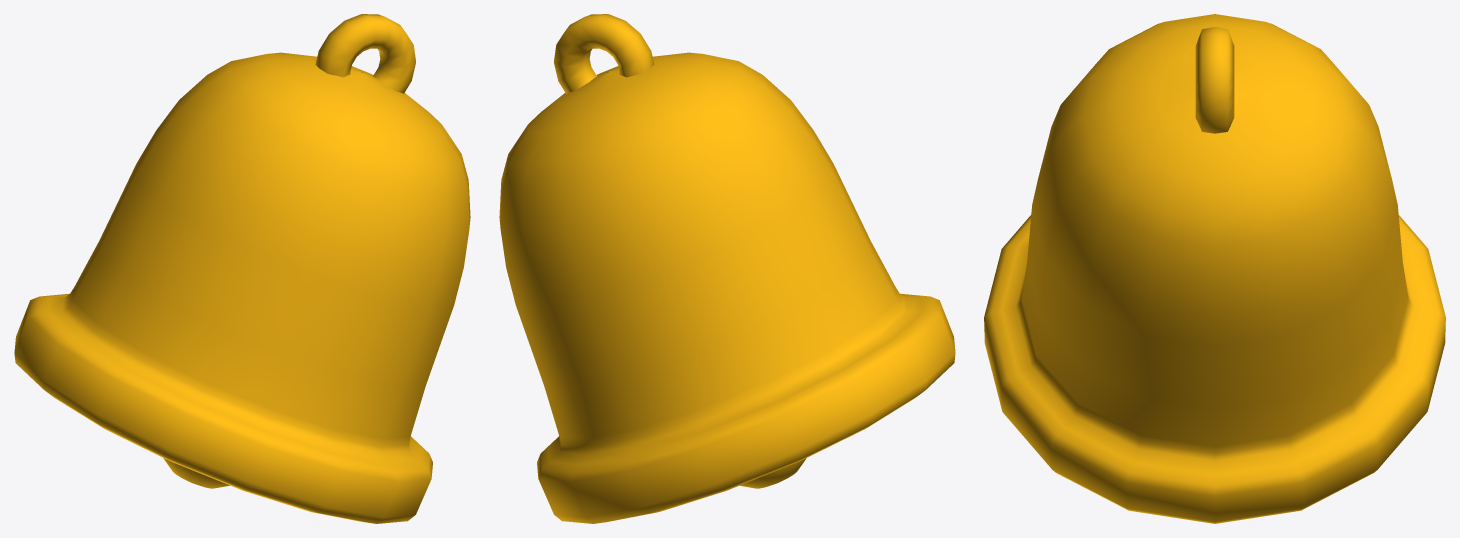
File: rushbutton.glb
3 views of the same model, side by side, from view 1: azimuth 30°, elevation 25°; view 2: azimuth 150°, elevation 25°; view 3: azimuth 270°, elevation 25° (orthographic). The views are drawn at different scales.
Parts seen in each view (by area): view 1: button; view 2: button; view 3: button.
Boxes of the visible parts, x1=… form: button: x1=14, y1=14, x2=470, y2=523; button: x1=499, y1=14, x2=955, y2=523; button: x1=984, y1=14, x2=1445, y2=523.
Size of what is drawn, in the model's own units: 0.9398 by 1.03 by 0.8889.
Materials: 1 (1 with a texture image).
